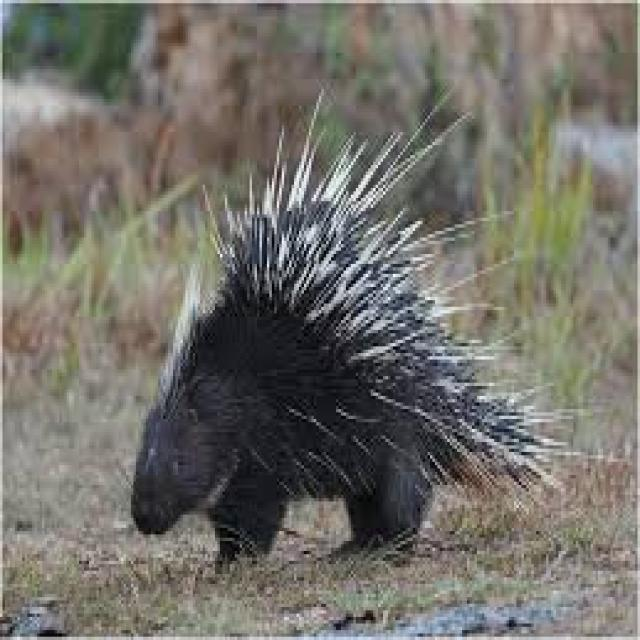Porcupine: (132, 198, 447, 562)
